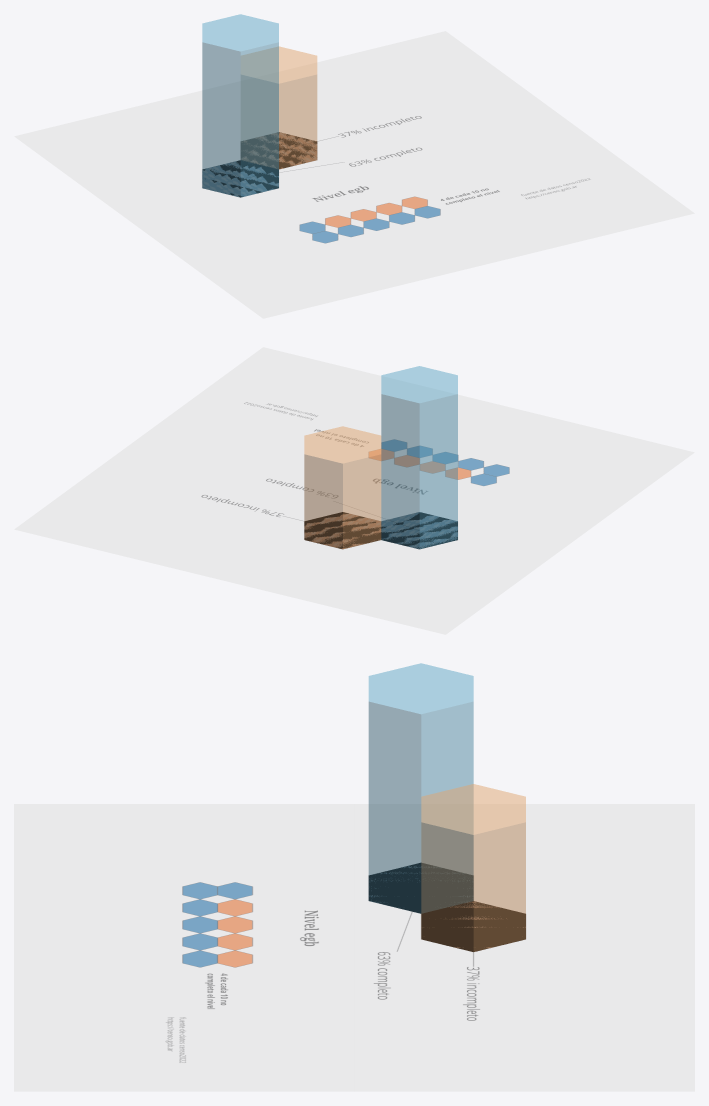
The model's file is egb.gltf.
3 views of the same model, one above another, from view 1: azimuth 30°, elevation 25°; view 2: azimuth 150°, elevation 25°; view 3: azimuth 270°, elevation 25° (orthographic). The views are drawn at different scales.
Parts seen in each view (by area): view 1: GSI Elevation Tile, barras, etiqueta; view 2: GSI Elevation Tile, barras, etiqueta; view 3: GSI Elevation Tile, barras, etiqueta.
Part boxes in pixels (box(x1,y1,x2,y2)): GSI Elevation Tile: box(14, 31, 694, 318); barras: box(202, 14, 317, 197); etiqueta: box(202, 132, 317, 197); GSI Elevation Tile: box(14, 347, 694, 634); barras: box(304, 366, 457, 549); etiqueta: box(304, 512, 457, 548); GSI Elevation Tile: box(14, 804, 694, 1091); barras: box(368, 663, 525, 951); etiqueta: box(368, 863, 525, 951).
Bounding box in the file's own units: 1949 × 630 × 1949.
4 materials, 1 textured.
